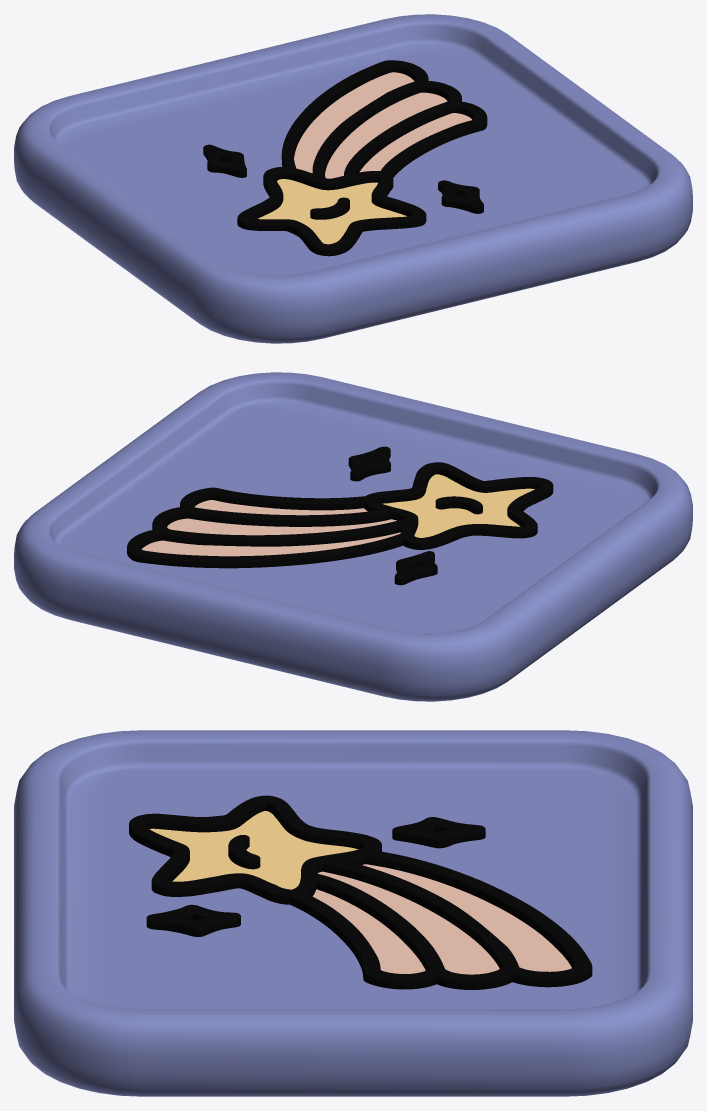
Rendered from star_tile.fbx.
3 views of the same model, one above another, from view 1: azimuth 30°, elevation 25°; view 2: azimuth 150°, elevation 25°; view 3: azimuth 270°, elevation 25° (orthographic). The views are drawn at different scales.
Parts seen in each view (by area): view 1: star_cube, star_lines; view 2: star_cube, star_lines; view 3: star_cube, star_lines.
Boxes of the visible parts, x1=… form: star_cube: x1=14, y1=14, x2=692, y2=343; star_lines: x1=203, y1=60, x2=487, y2=256; star_cube: x1=14, y1=372, x2=692, y2=701; star_lines: x1=127, y1=446, x2=553, y2=585; star_cube: x1=14, y1=730, x2=692, y2=1096; star_lines: x1=129, y1=795, x2=592, y2=989.
Size of the model in its own units: 1201 by 143 by 1128.
